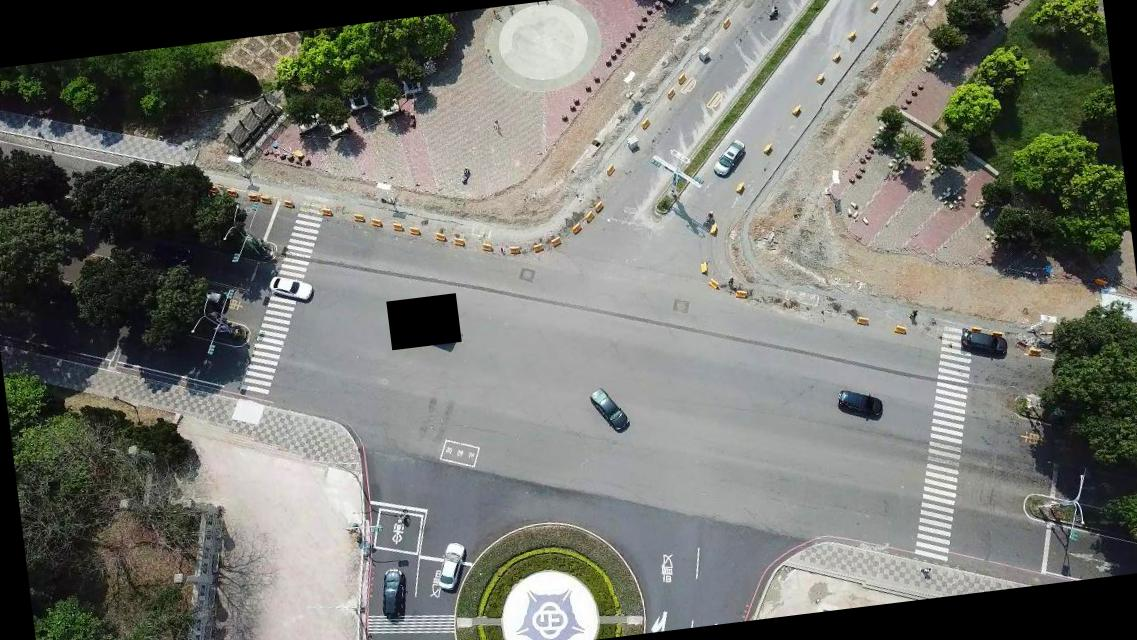vehicle: (586, 385, 631, 434), (957, 322, 1008, 360), (376, 566, 410, 623), (834, 384, 884, 422), (434, 540, 470, 592), (710, 138, 748, 179), (268, 271, 314, 304)
